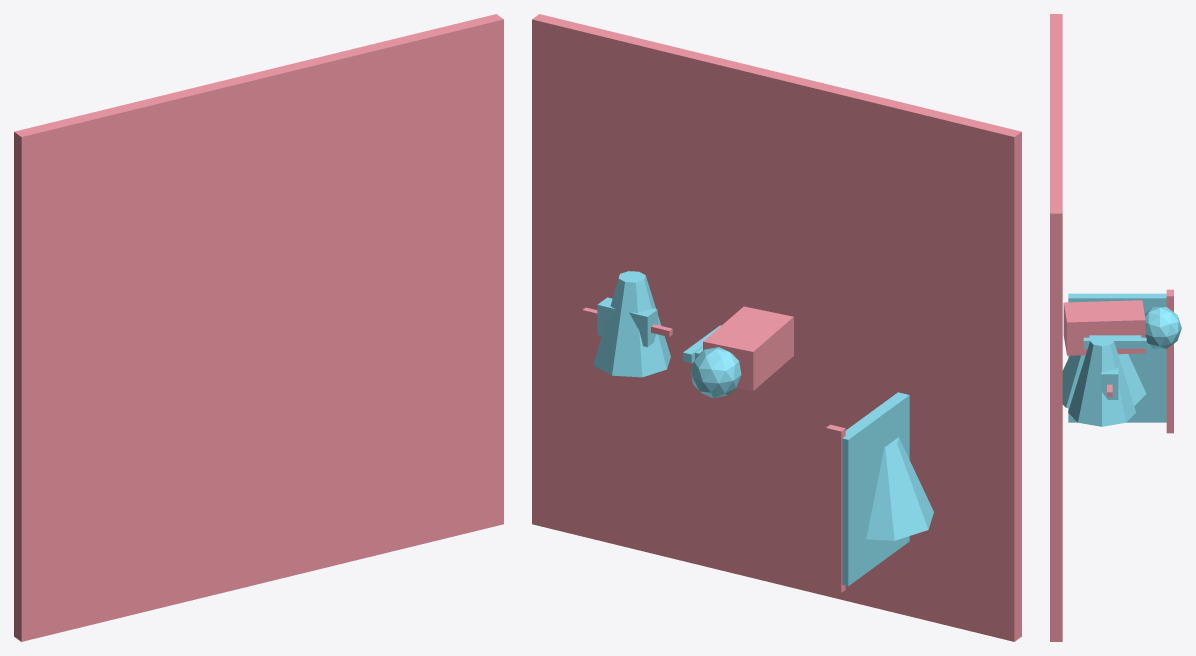
File: ironfront-arena-kit.glb
3 renders of one model, left to right at view 1: azimuth 30°, elevation 25°; view 2: azimuth 150°, elevation 25°; view 3: azimuth 270°, elevation 25°, orthographic. The views are drawn at different scales.
Parts seen in each view (by area): view 1: ENVIRONMENT_GROUND; view 2: ENVIRONMENT_GROUND, PROFILE_ENVIRONMENT_DETAIL, OBSTACLE, PLAYER_BODY, ENVIRONMENT_LANDMARK, PROFILE_ENVIRONMENT_TRIM, PLAYER_HEAD, PROFILE_OBSTACLE_DETAIL; view 3: ENVIRONMENT_GROUND, OBSTACLE, PLAYER_BODY, PROFILE_ENVIRONMENT_DETAIL, ENVIRONMENT_LANDMARK, PLAYER_HEAD, PROFILE_ENVIRONMENT_TRIM, PLAYER_TOOL, PROFILE_OBSTACLE_DETAIL.
Boxes of the visible parts, bbox=[...] form: ENVIRONMENT_GROUND: bbox=[14, 14, 503, 641]; ENVIRONMENT_GROUND: bbox=[532, 14, 1021, 641]; PROFILE_ENVIRONMENT_DETAIL: bbox=[842, 392, 909, 586]; OBSTACLE: bbox=[593, 271, 670, 377]; PLAYER_BODY: bbox=[703, 306, 793, 390]; ENVIRONMENT_LANDMARK: bbox=[866, 437, 933, 540]; PROFILE_ENVIRONMENT_TRIM: bbox=[826, 424, 845, 592]; PLAYER_HEAD: bbox=[690, 347, 741, 398]; PROFILE_OBSTACLE_DETAIL: bbox=[597, 297, 657, 347]; ENVIRONMENT_GROUND: bbox=[1050, 14, 1062, 641]; OBSTACLE: bbox=[1068, 336, 1135, 426]; PLAYER_BODY: bbox=[1063, 300, 1145, 355]; PROFILE_ENVIRONMENT_DETAIL: bbox=[1068, 293, 1166, 422]; ENVIRONMENT_LANDMARK: bbox=[1062, 354, 1146, 408]; PLAYER_HEAD: bbox=[1144, 307, 1181, 348]; PROFILE_ENVIRONMENT_TRIM: bbox=[1166, 289, 1173, 433]; PLAYER_TOOL: bbox=[1083, 337, 1146, 348]; PROFILE_OBSTACLE_DETAIL: bbox=[1101, 367, 1118, 399].
Size of what is drawn, in the model's own units: 9 by 9 by 2.51.
